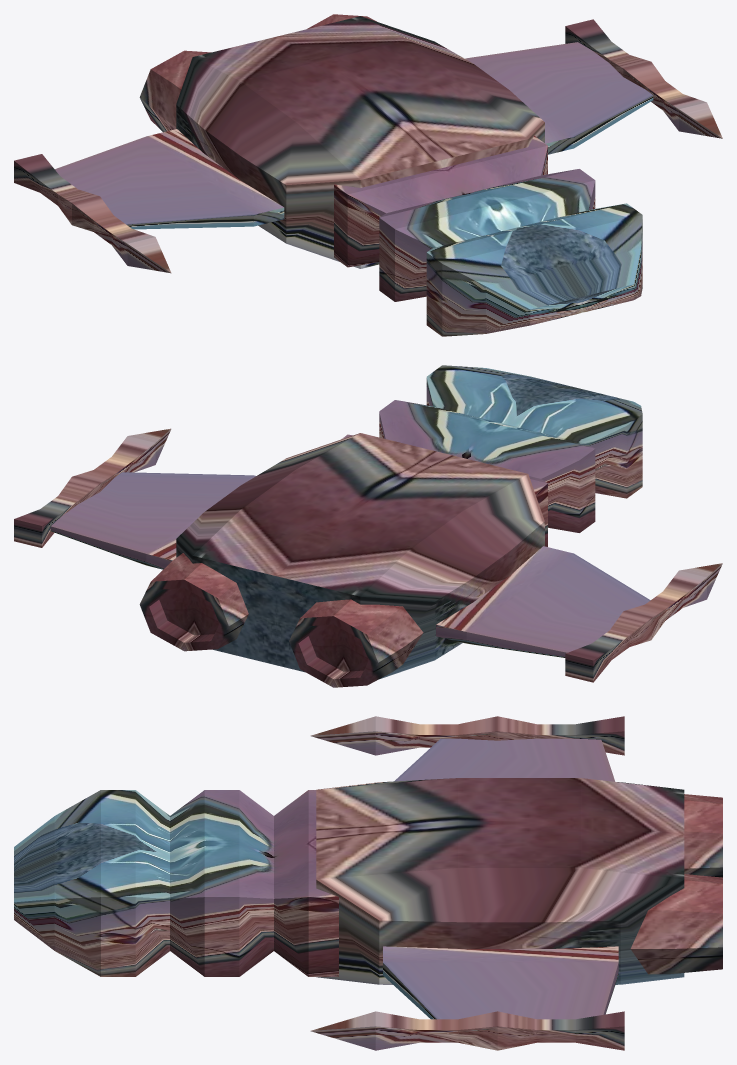
Rendered from corvette.glb.
3 renders of one model, top to bottom at view 1: azimuth 30°, elevation 25°; view 2: azimuth 150°, elevation 25°; view 3: azimuth 270°, elevation 25°, orthographic. The views are drawn at different scales.
Visible parts, largest first — view 1: corvette; view 2: corvette; view 3: corvette.
Boxes of the visible parts, box(x1,y1,x2,y2) form: corvette: box(14, 14, 722, 336); corvette: box(14, 365, 722, 687); corvette: box(14, 716, 722, 1050).
Bounding box in the file's own units: 35.19 × 6.16 × 34.
1 material, 1 textured.
